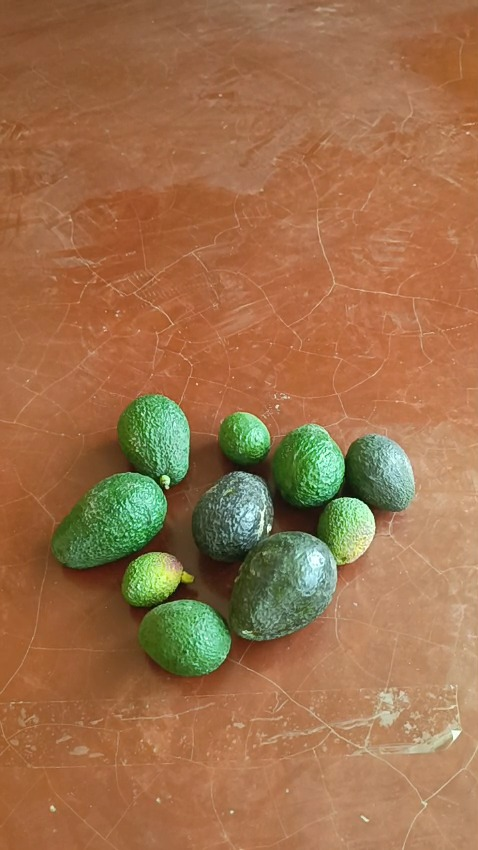Primera: (226, 532, 337, 641), (50, 471, 167, 568), (191, 471, 274, 561), (116, 394, 192, 485), (271, 424, 346, 507)
Segunda: (137, 599, 230, 675), (344, 433, 415, 511)
Tercera: (315, 496, 375, 565), (121, 551, 182, 606), (218, 412, 271, 465)
